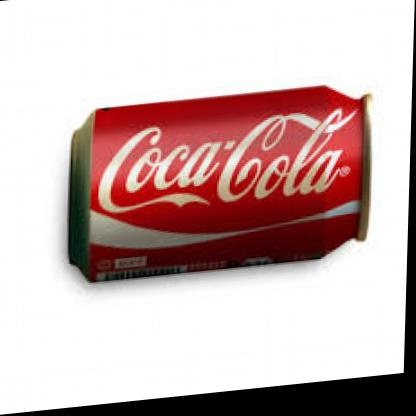trash: (69, 86, 370, 280)
